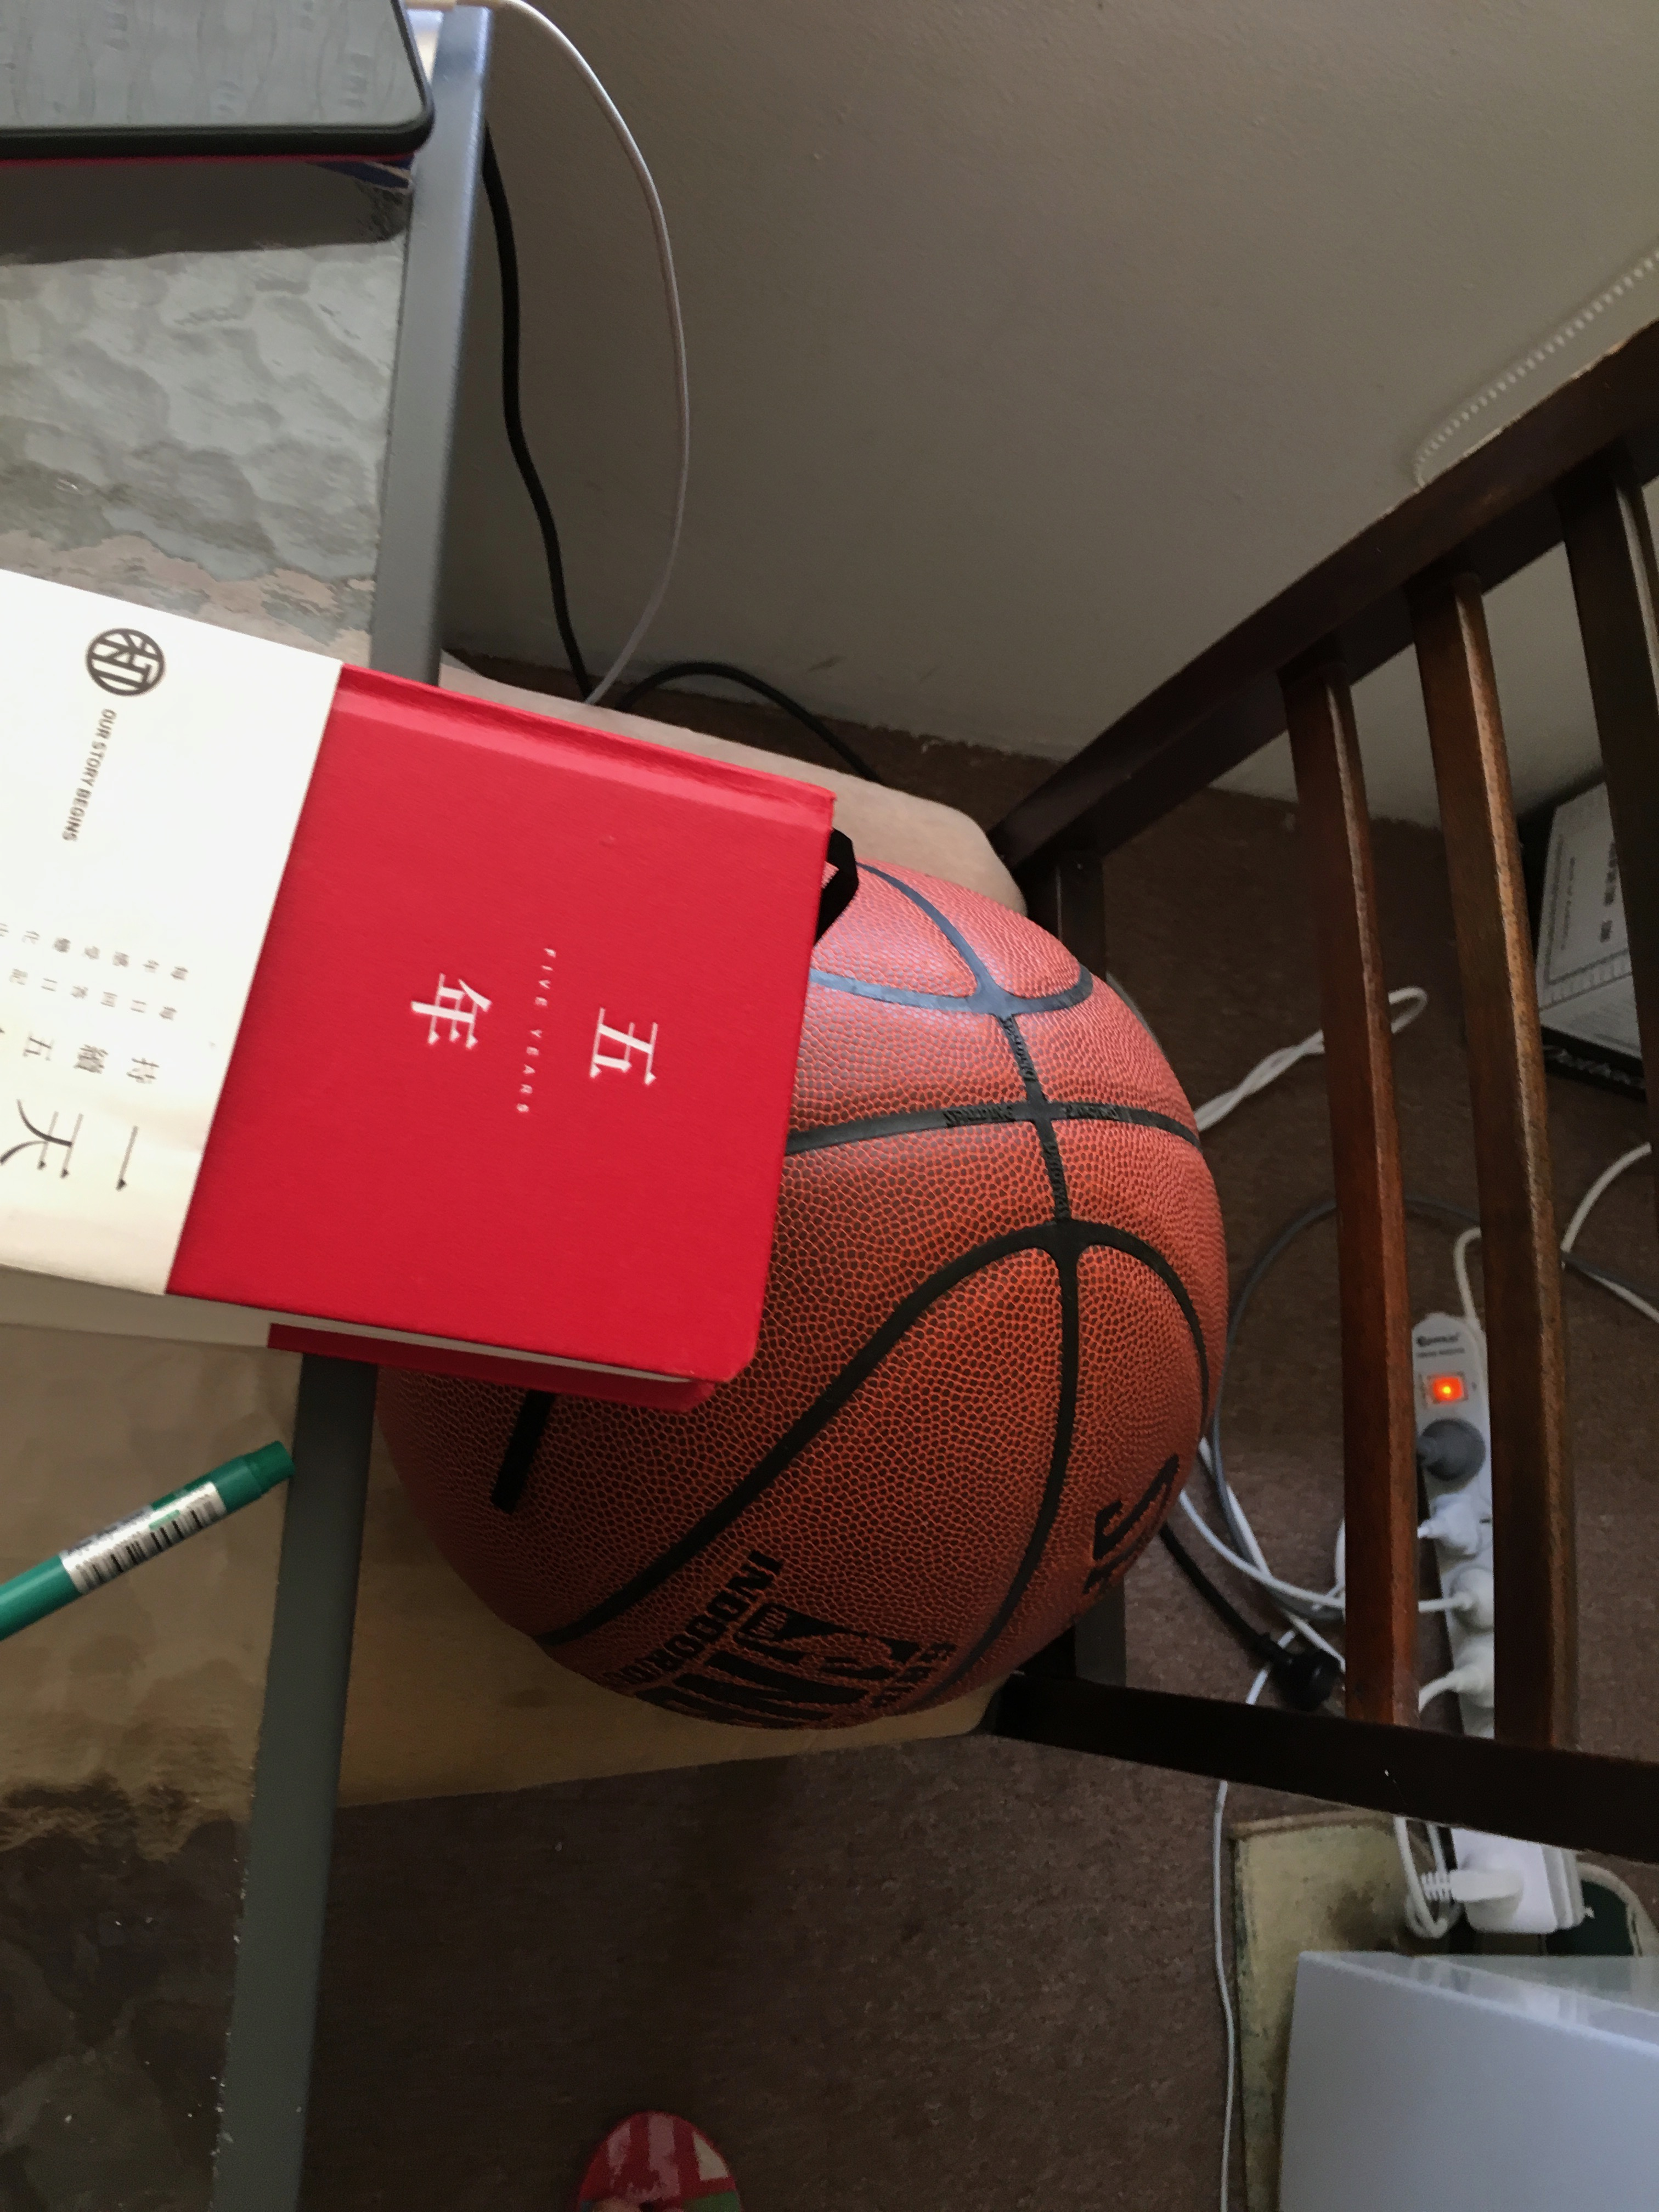Basketball: (366, 822, 1248, 1756)
